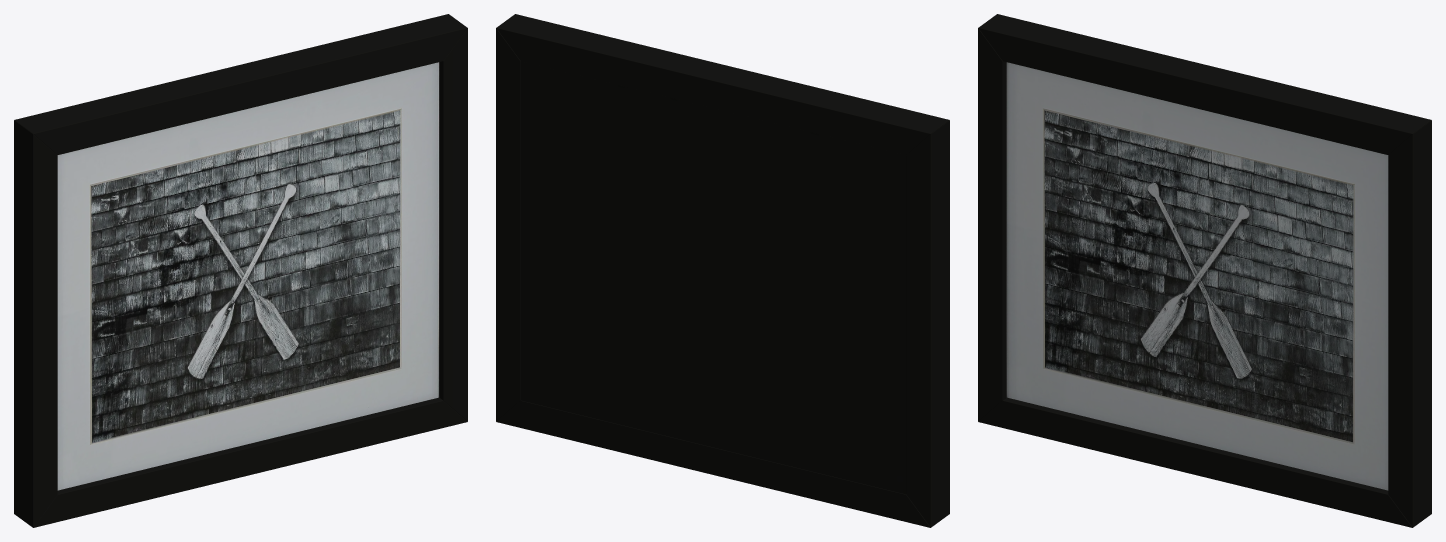
Rendered from abo-B075YLJMHK.glb.
3 renders of one model, left to right at view 1: azimuth 30°, elevation 25°; view 2: azimuth 150°, elevation 25°; view 3: azimuth 330°, elevation 25°, orthographic.
Bounding box in the file's own units: 0.381 × 0.33 × 0.029.
Materials: 1 (1 with a texture image).
